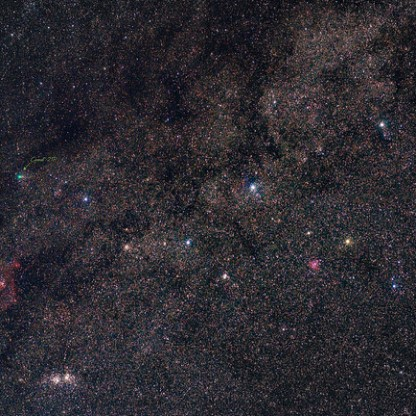Cassiopeia: (300, 222, 368, 252), (367, 111, 395, 143), (169, 226, 197, 256), (240, 174, 266, 205), (73, 186, 100, 213)
